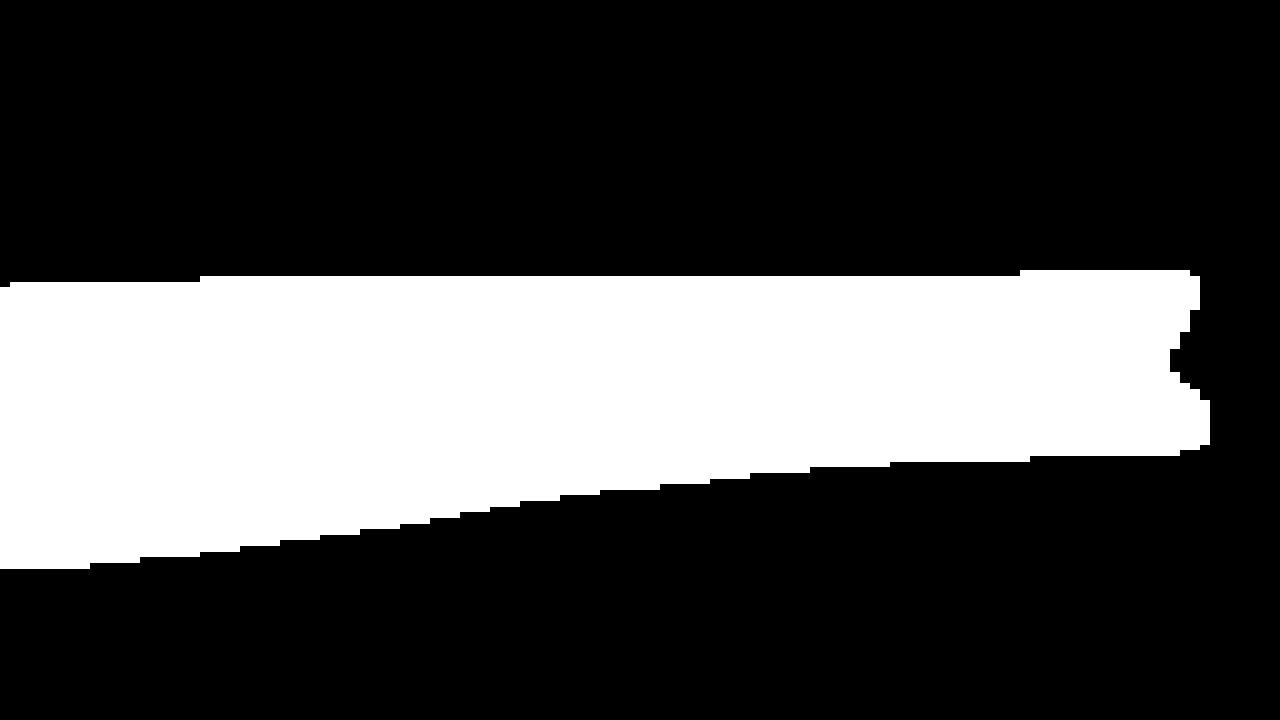Turbine: (9, 243, 1232, 585)
